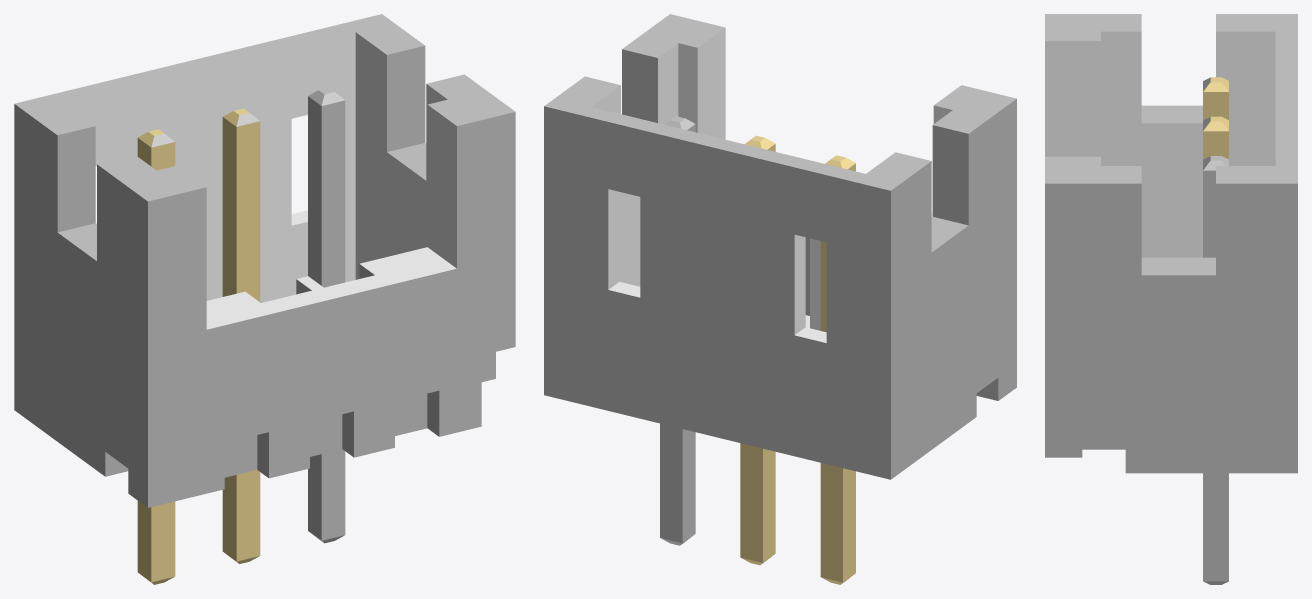
File: DF13-3P-1.25DSA(50).obj
3 views of the same model, side by side, from view 1: azimuth 30°, elevation 25°; view 2: azimuth 150°, elevation 25°; view 3: azimuth 270°, elevation 25° (orthographic). The views are drawn at different scales.
Parts seen in each view (by area): view 1: DF13-3P-1.25DSA(50); view 2: DF13-3P-1.25DSA(50); view 3: DF13-3P-1.25DSA(50).
Boxes of the visible parts, <box> form: DF13-3P-1.25DSA(50): <box>14,14,515,584</box>; DF13-3P-1.25DSA(50): <box>544,14,1016,584</box>; DF13-3P-1.25DSA(50): <box>1045,14,1297,584</box>.
Bounding box in the file's own units: 0.0118 × 0.0144 × 0.00742.
